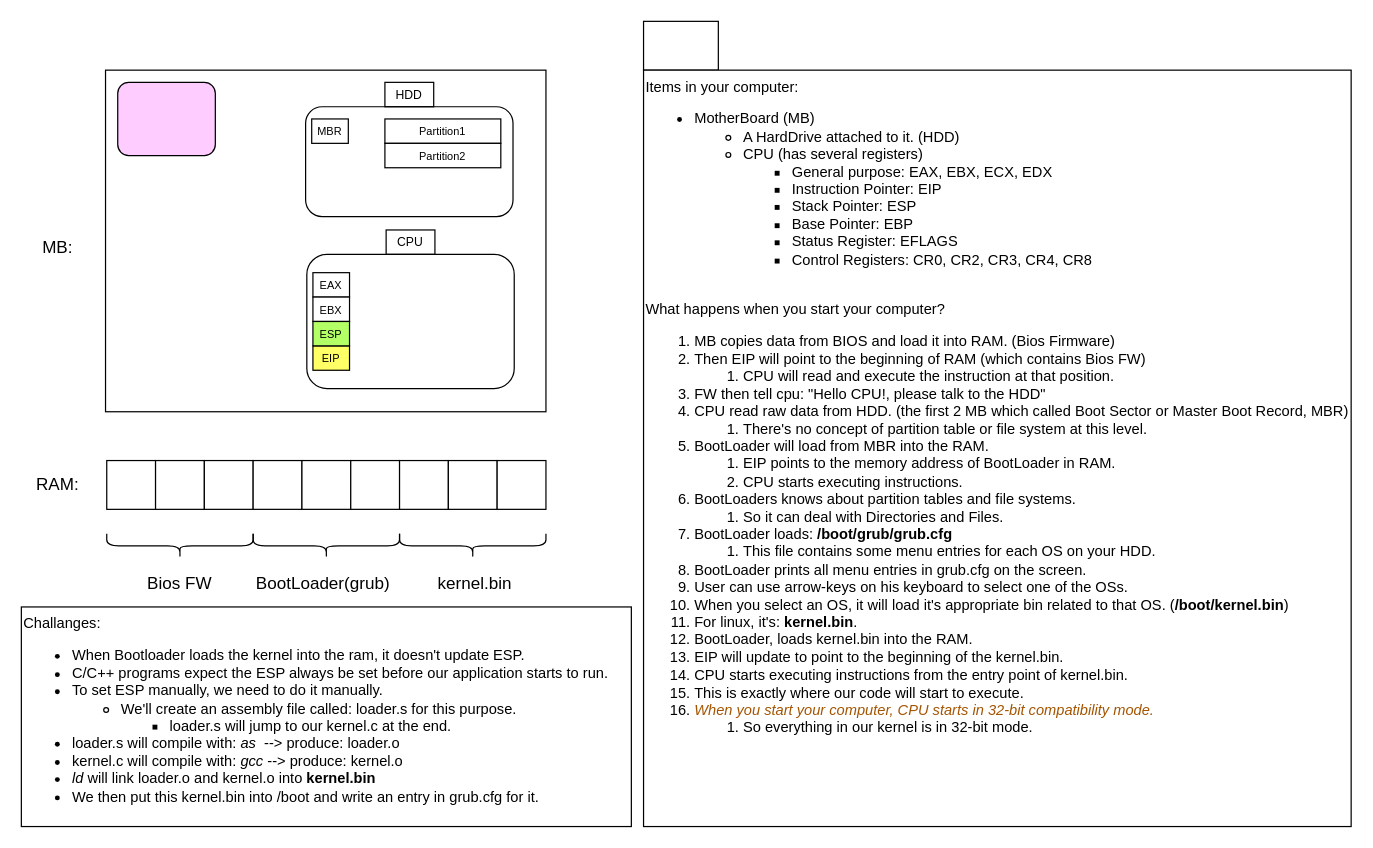
This 1373x848 diagram has some shape labels left out. The shapes that lost their labels are listed below. From the top down, each one's centre as x and y in pixels, then its label:
At pixel 680 45: "NOTES".
At pixel 166 118: "BIOS".
